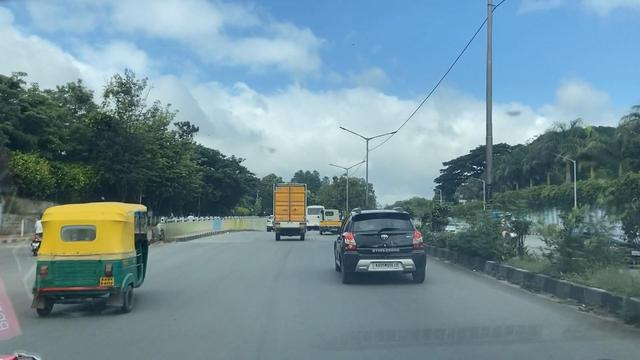HMV: (274, 189, 306, 239)
LMV: (37, 203, 156, 311), (332, 206, 426, 288)
